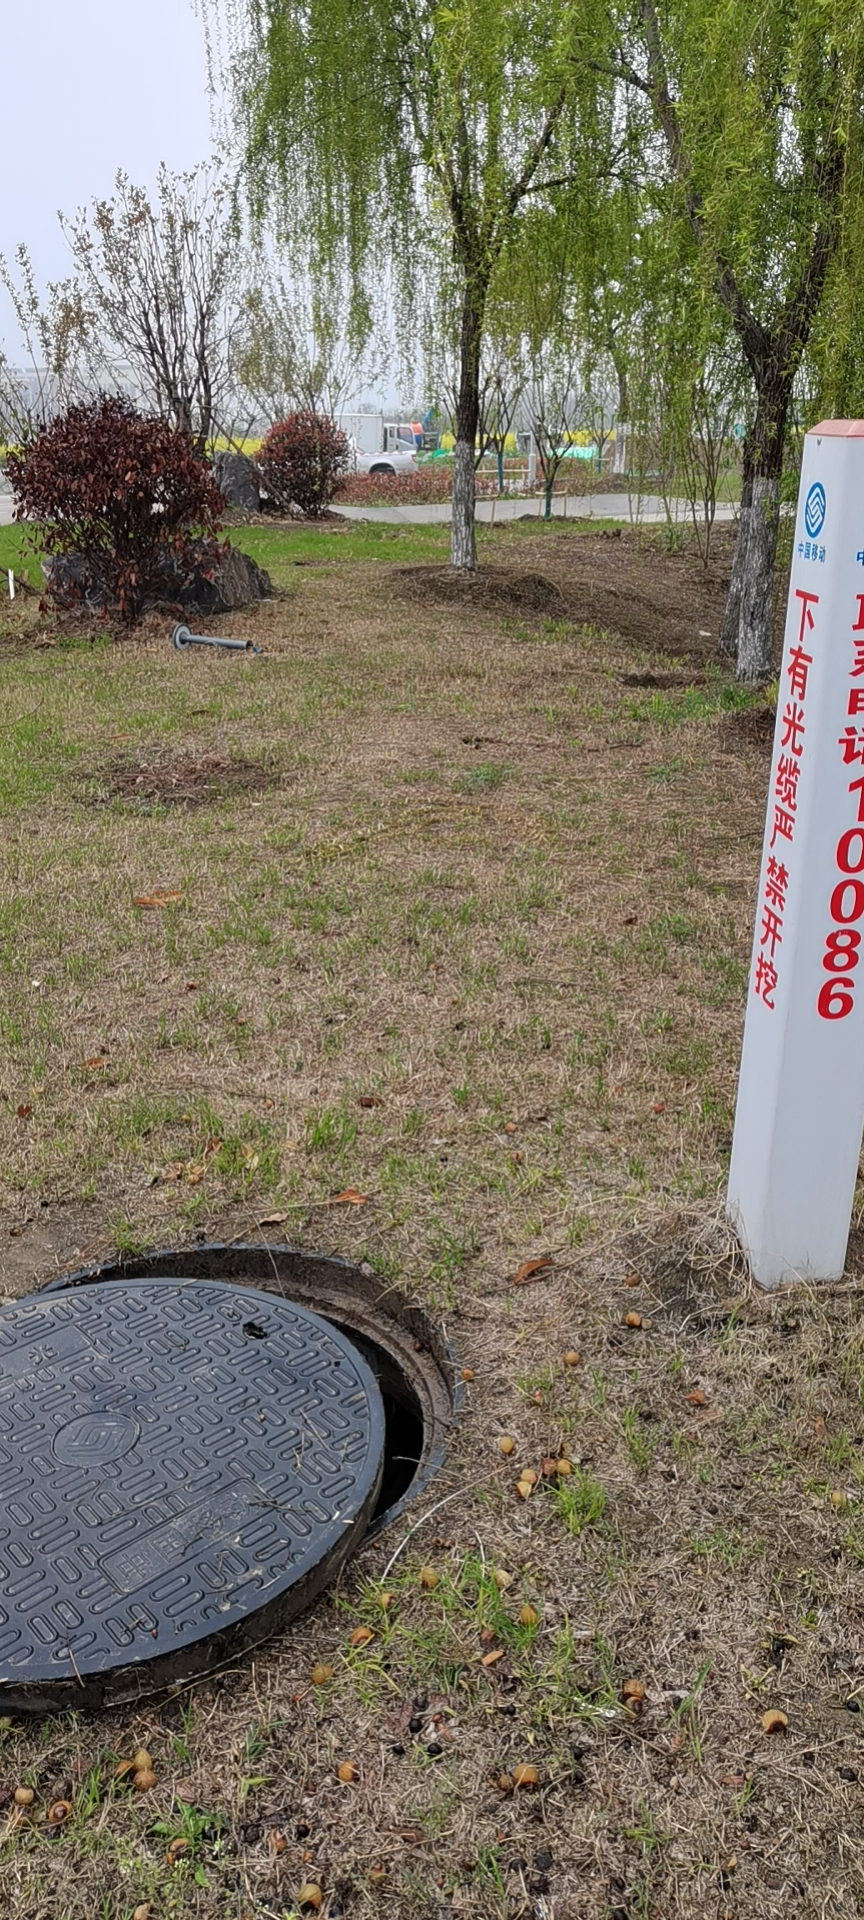uncovered: (10, 1242, 445, 1709)
